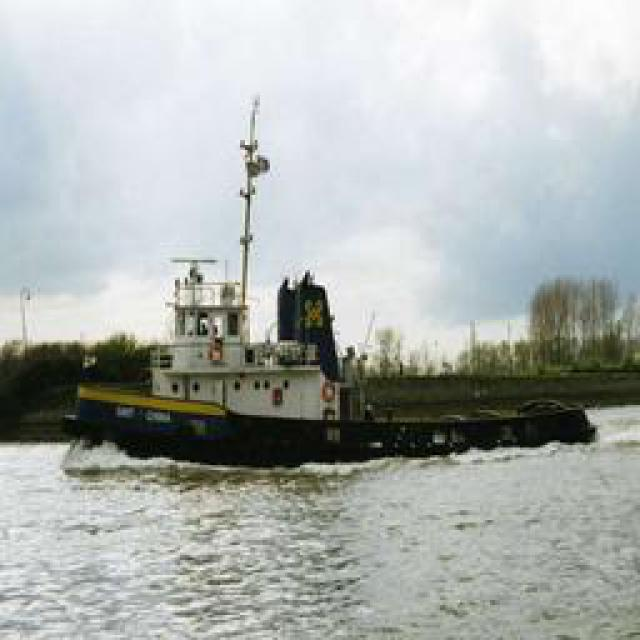Ship: (85, 156, 585, 461)
